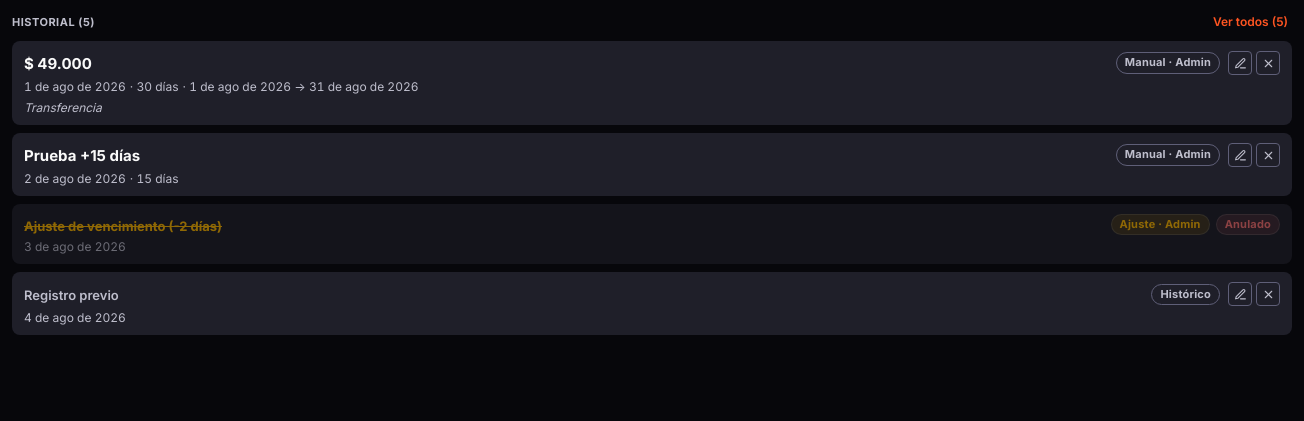
Test: BillingHistory › shows the full history when requested
Click the button with class "toggle-history-btn" at (1250, 22), box [1209,12,1292,31]
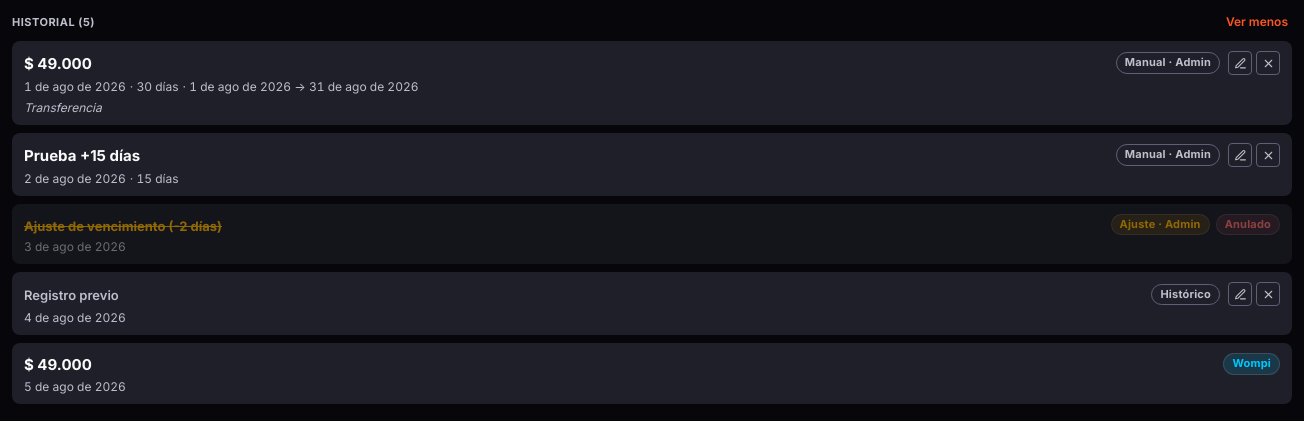
Now the number of elements with class "history-card" is 5, box [12,41,1292,125]; [12,133,1292,196]; [12,204,1292,264]; [12,272,1292,335]; [12,343,1292,404]
Now the text "Ver menos" is shown, box [1222,12,1292,31]
